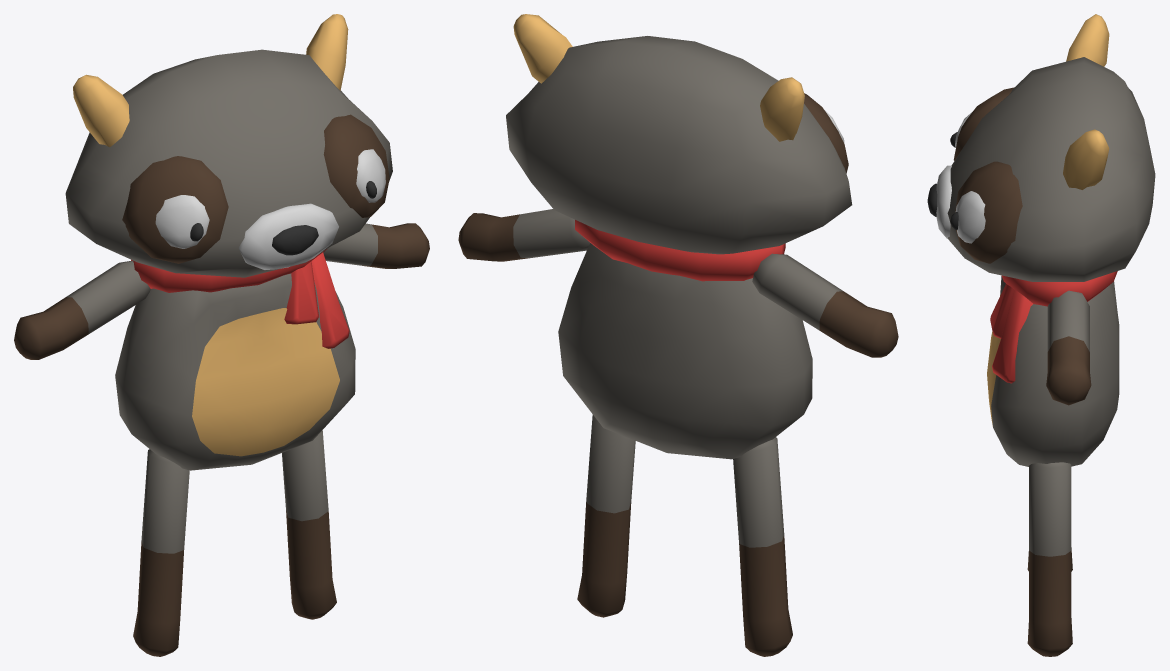
File: RacoonPlush_01.fbx
The picture shows the model from 3 angles, left to right: view 1: azimuth 30°, elevation 25°; view 2: azimuth 150°, elevation 25°; view 3: azimuth 270°, elevation 25°; orthographic projection. The views are drawn at different scales.
Parts seen in each view (by area): view 1: RacoonPlush_01, RacoonPlush_01_Leg_R, RacoonPlush_01_Leg_L, RacoonPlush_01_Arm_R, RacoonPlush_01_Arm_L; view 2: RacoonPlush_01, RacoonPlush_01_Leg_R, RacoonPlush_01_Leg_L, RacoonPlush_01_Arm_R, RacoonPlush_01_Arm_L; view 3: RacoonPlush_01, RacoonPlush_01_Leg_L, RacoonPlush_01_Arm_L.
Part boxes in pixels (left/top/right/bottom): RacoonPlush_01: left=65, top=14, right=392, bottom=470; RacoonPlush_01_Leg_R: left=133, top=449, right=189, bottom=656; RacoonPlush_01_Leg_L: left=282, top=430, right=336, bottom=619; RacoonPlush_01_Arm_R: left=14, top=260, right=150, bottom=359; RacoonPlush_01_Arm_L: left=323, top=223, right=429, bottom=268; RacoonPlush_01: left=506, top=14, right=852, bottom=459; RacoonPlush_01_Leg_R: left=733, top=437, right=792, bottom=656; RacoonPlush_01_Leg_L: left=577, top=414, right=635, bottom=617; RacoonPlush_01_Arm_R: left=752, top=253, right=898, bottom=357; RacoonPlush_01_Arm_L: left=458, top=209, right=590, bottom=261; RacoonPlush_01: left=927, top=14, right=1155, bottom=466; RacoonPlush_01_Leg_L: left=1027, top=462, right=1072, bottom=656; RacoonPlush_01_Arm_L: left=1046, top=290, right=1091, bottom=405.
Size of the model in its own units: 0.2737 by 0.3684 by 0.1393.
